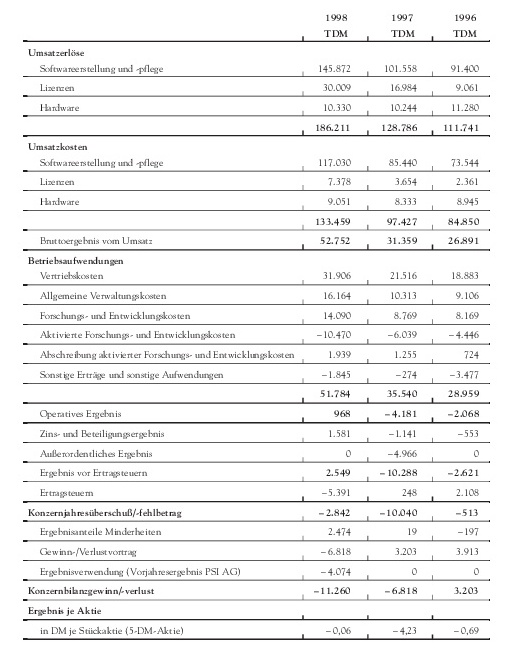table: (0, 0, 508, 666)
